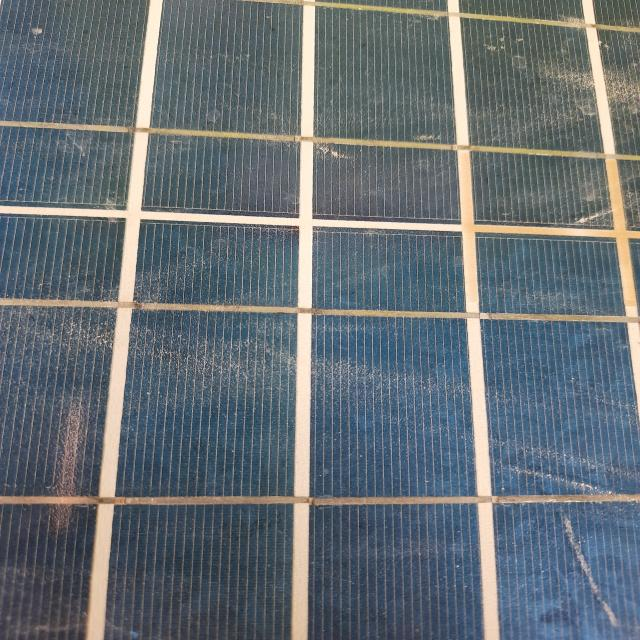dust-solar-panel: (2, 0, 638, 640)
